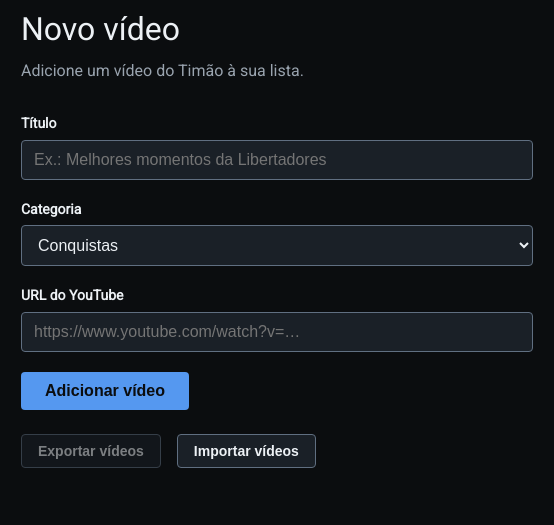
shows a validation error for an empty title
Type "https://youtu.be/Bui2mO6AbxA" into the field labelled "URL do YouTube" at (277, 332), box [21,312,533,352]
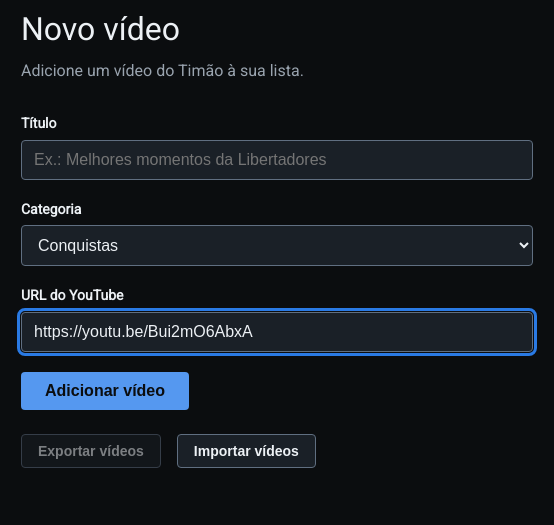
Click the button "Adicionar vídeo" at (105, 391), box [21,372,189,410]
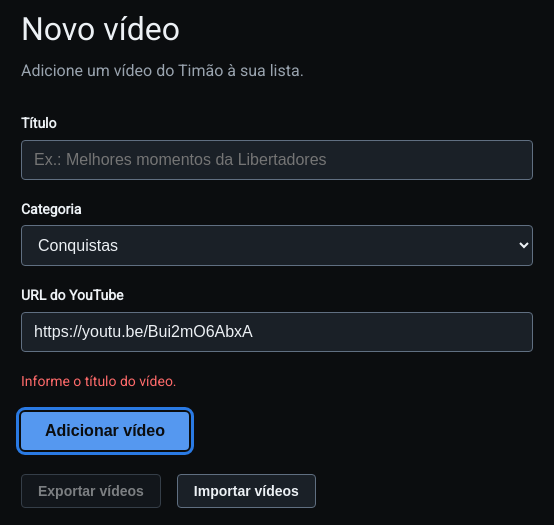
Check: the message shows "título", box [21,373,177,389]
